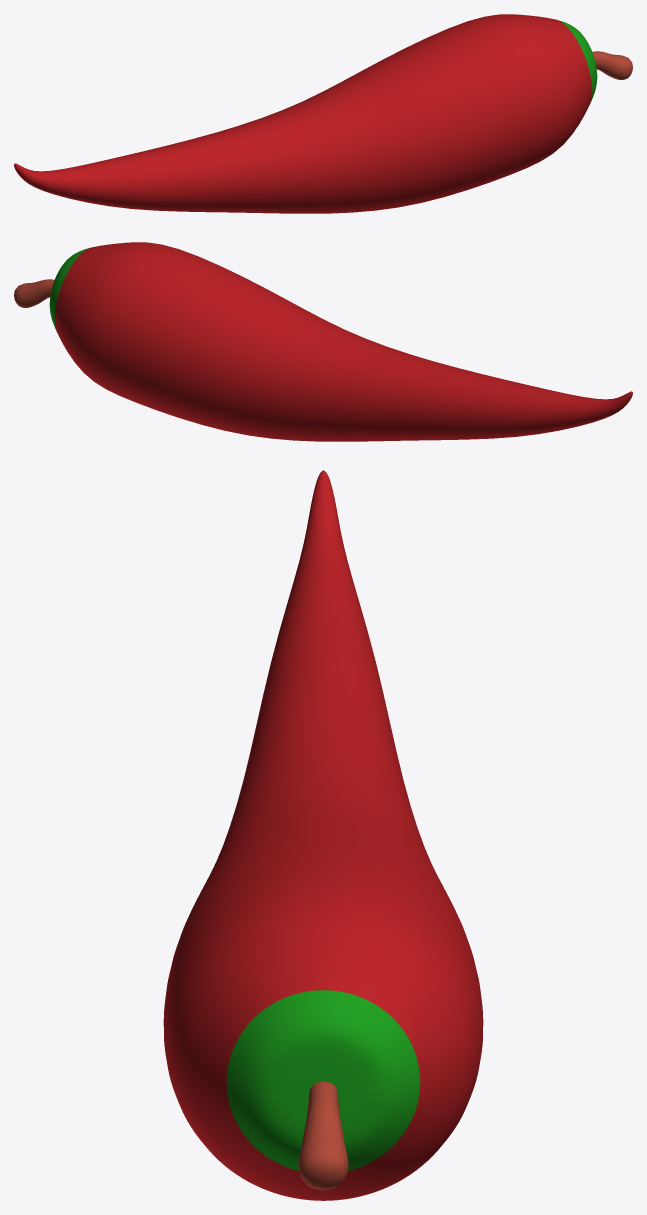
Rendered from Pimenta.gltf.
3 renders of one model, top to bottom at view 1: azimuth 30°, elevation 25°; view 2: azimuth 150°, elevation 25°; view 3: azimuth 270°, elevation 25°, orthographic. The views are drawn at different scales.
Parts seen in each view (by area): view 1: Cylinder; view 2: Cylinder; view 3: Cylinder.
Part boxes in pixels (x1,y1,x2,y2): Cylinder: (14, 14, 632, 213); Cylinder: (14, 242, 632, 441); Cylinder: (163, 470, 483, 1200).
Size of the model in its own units: 0.4429 by 0.1044 by 0.0993.
